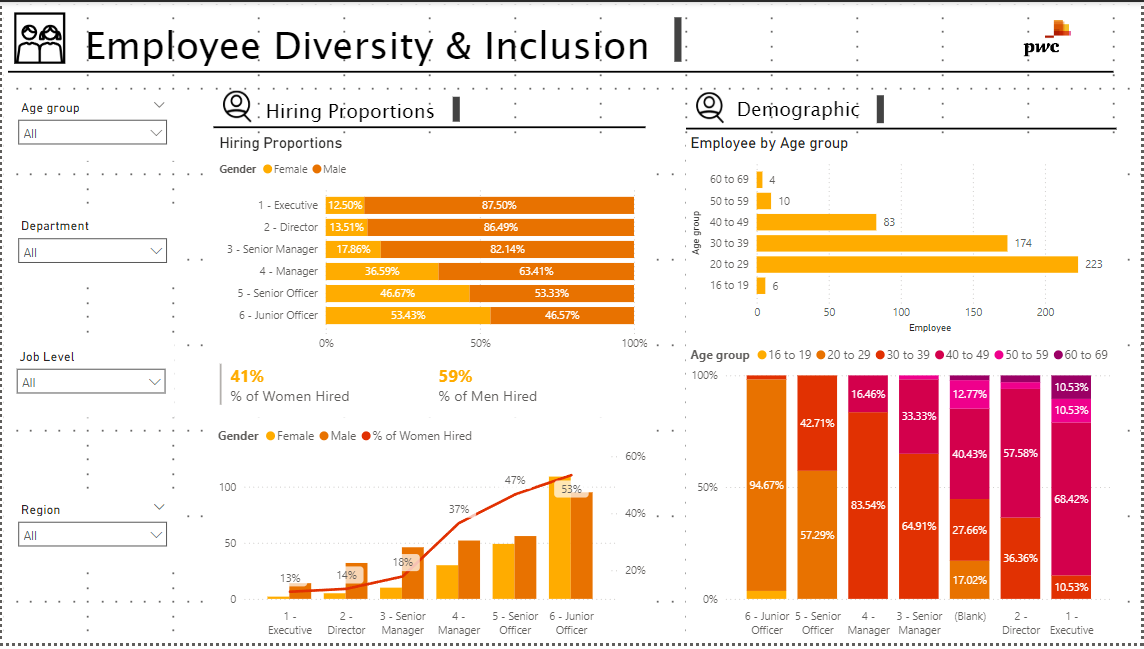

What the dashboard file says about the page in this screenshot:
{"tool":"powerbi","page":{"name":"Employee Diversity","canvas":[1280,720],"ordinal":0},"visuals":[{"type":"image","box":[1098.1,0,151.6,80.8],"z":0},{"type":"image","box":[8.7,0,67.5,81],"z":1000},{"type":"shape","box":[6.7,52.2,1241.3,52.2],"z":2000},{"type":"textbox","box":[87.6,11.8,680.4,67.4],"z":3000},{"type":"group","id":"g1","title":"Group 2","box":[237.5,94.3,485.1,71.3],"z":4000},{"type":"image","box":[238.1,94.3,53.9,45.5],"z":4000,"group":"g1"},{"type":"image","box":[768.6,96,53.7,45.1],"z":4000,"group":"g2"},{"type":"shape","box":[237.5,116.7,485.1,48.8],"z":5000,"group":"g1"},{"type":"shape","box":[768,118.3,483.4,48.5],"z":5000,"group":"g2"},{"type":"hundredPercentStackedBarChart","title":"Hiring Proportions","fields":{"Category":["Pharma Group AG.Job Level after FY20 promotions"],"Series":["Pharma Group AG.Gender"],"Y":["Count(Pharma Group AG.Employee ID)"]},"box":[239.2,148.2,490.1,252.6],"z":5000},{"type":"textbox","box":[820.2,99.4,175.2,42.1],"z":6000,"group":"g2"},{"type":"textbox","box":[290.6,100.5,227.4,40.4],"z":6000,"group":"g1"},{"type":"multiRowCard","fields":{"Values":["Pharma Group AG.% of Women Hired","Pharma Group AG.% Men Hired"]},"box":[239.2,400.8,490.1,65.7],"z":6000},{"type":"lineClusteredColumnComboChart","fields":{"Series":["Pharma Group AG.Gender"],"Y2":["Pharma Group AG.% of Women Hired"],"Category":["Pharma Group AG.Job Level after FY20 promotions"],"Y":["CountNonNull(Pharma Group AG.Employee ID)"]},"box":[237.5,466.5,490.1,254.3],"z":7000},{"type":"clusteredBarChart","fields":{"Y":["Count(Pharma Group AG.Employee ID)"],"Category":["Pharma Group AG.Age group"]},"box":[768,148.2,483.4,227.4],"z":8000},{"type":"group","id":"g2","title":"Group 2","box":[768,96,483.4,70.7],"z":8001},{"type":"hundredPercentStackedColumnChart","fields":{"Category":["Pharma Group AG.Job Level after FY21 promotions"],"Y":["CountNonNull(Pharma Group AG.Employee ID)"],"Series":["Pharma Group AG.Age group"]},"box":[768,375.6,483.4,345.3],"z":8002},{"type":"slicer","fields":{"Values":["Pharma Group AG.Age group"]},"box":[8.4,104.4,186.9,74.1],"z":8003},{"type":"slicer","fields":{"Values":["Pharma Group AG.Department @01.07.2020"]},"box":[8.4,237.5,186.9,72.4],"z":8004},{"type":"slicer","fields":{"Values":["Pharma Group AG.Broad region group: nationality 1"]},"box":[8.4,555.8,186.9,75.8],"z":8005},{"type":"slicer","fields":{"Values":["Pharma Group AG.Job Level after FY21 promotions"]},"box":[8.4,375.6,186.9,82.5],"z":8006}]}

Visuals, with their boxes in screenshot pixels (x1, y1, x2, y2), scaled from the page's 1280x720 canvas onto the 1144x649 screenshot:
image: bbox=[981, 0, 1117, 73]
image: bbox=[8, 0, 68, 73]
shape: bbox=[6, 47, 1115, 94]
textbox: bbox=[78, 11, 686, 71]
"Group 2" group: bbox=[212, 85, 646, 149]
image: bbox=[213, 85, 261, 126]
image: bbox=[687, 87, 735, 127]
shape: bbox=[212, 105, 646, 149]
shape: bbox=[686, 107, 1118, 150]
"Hiring Proportions" hundredPercentStackedBarChart: bbox=[214, 134, 652, 361]
textbox: bbox=[733, 90, 890, 128]
textbox: bbox=[260, 91, 463, 127]
multiRowCard - Pharma Group AG.% of Women Hired x Pharma Group AG.% Men Hired: bbox=[214, 361, 652, 420]
lineClusteredColumnComboChart - Pharma Group AG.Gender x Pharma Group AG.% of Women Hired: bbox=[212, 420, 650, 648]
clusteredBarChart - Count(Pharma Group AG.Employee ID) x Pharma Group AG.Age group: bbox=[686, 134, 1118, 339]
"Group 2" group: bbox=[686, 87, 1118, 150]
hundredPercentStackedColumnChart - Pharma Group AG.Job Level after FY21 promotions x CountNonNull(Pharma Group AG.Employee ID): bbox=[686, 339, 1118, 648]
slicer - Pharma Group AG.Age group: bbox=[8, 94, 175, 161]
slicer - Pharma Group AG.Department @01.07.2020: bbox=[8, 214, 175, 279]
slicer - Pharma Group AG.Broad region group: nationality 1: bbox=[8, 501, 175, 569]
slicer - Pharma Group AG.Job Level after FY21 promotions: bbox=[8, 339, 175, 413]
